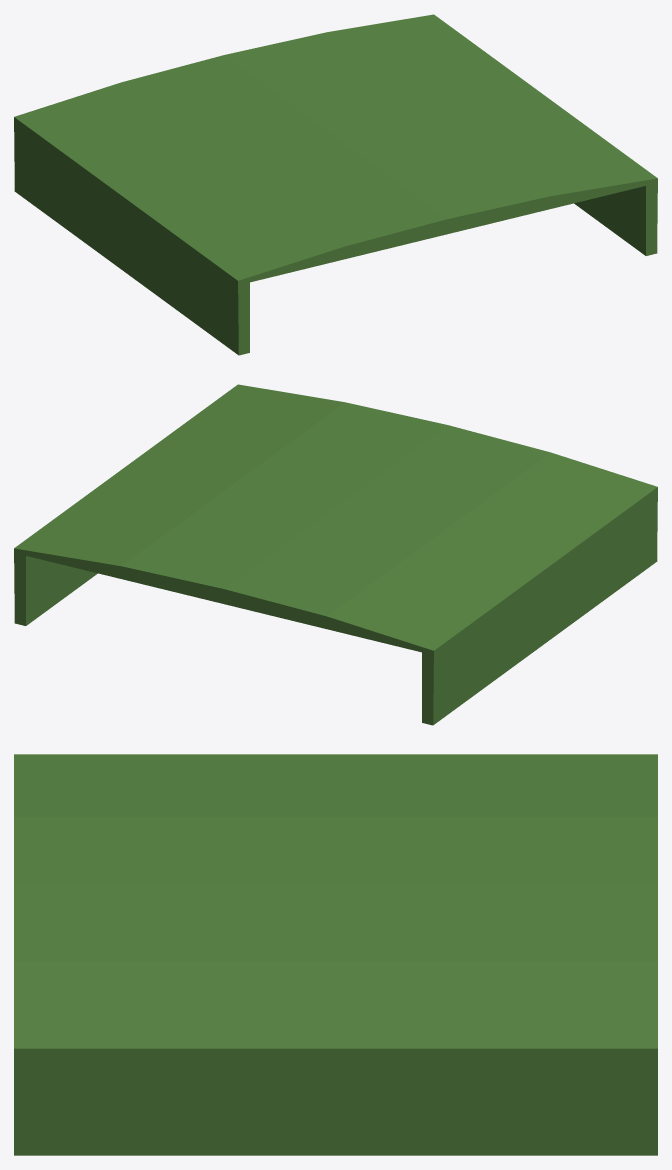
The model's file is Itr_Bed_Double_Blanket_03.FBX.
3 renders of one model, top to bottom at view 1: azimuth 30°, elevation 25°; view 2: azimuth 150°, elevation 25°; view 3: azimuth 270°, elevation 25°, orthographic. The views are drawn at different scales.
Parts seen in each view (by area): view 1: Itr_Bed_Double_Blanket_03; view 2: Itr_Bed_Double_Blanket_03; view 3: Itr_Bed_Double_Blanket_03.
Part boxes in pixels (x1,y1,x2,y2): Itr_Bed_Double_Blanket_03: (14, 14, 657, 355); Itr_Bed_Double_Blanket_03: (14, 384, 657, 725); Itr_Bed_Double_Blanket_03: (14, 754, 657, 1155).
Bounding box in the file's own units: 70.21 × 13.65 × 64.86.
